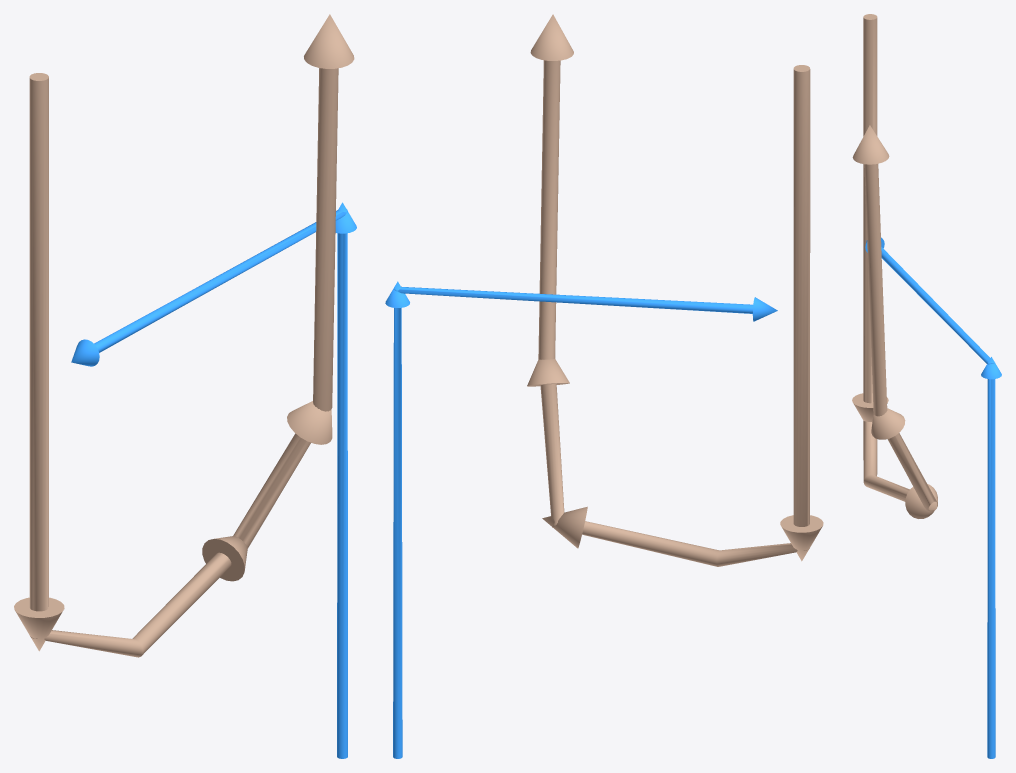
File: wet_scrubber_flow.glb
3 views of the same model, side by side, from view 1: azimuth 30°, elevation 25°; view 2: azimuth 150°, elevation 25°; view 3: azimuth 270°, elevation 25° (orthographic). The views are drawn at different scales.
Parts seen in each view (by area): view 1: gas, liquid; view 2: gas, liquid; view 3: gas, liquid.
Boxes of the visible parts, <box> form: gas: <box>14,14,354,657</box>; liquid: <box>71,202,356,758</box>; gas: <box>527,14,823,566</box>; liquid: <box>385,281,777,758</box>; gas: <box>852,14,937,518</box>; liquid: <box>865,237,1001,758</box>.
Size of the model in its own units: 1.74 by 3.3 by 0.743.
